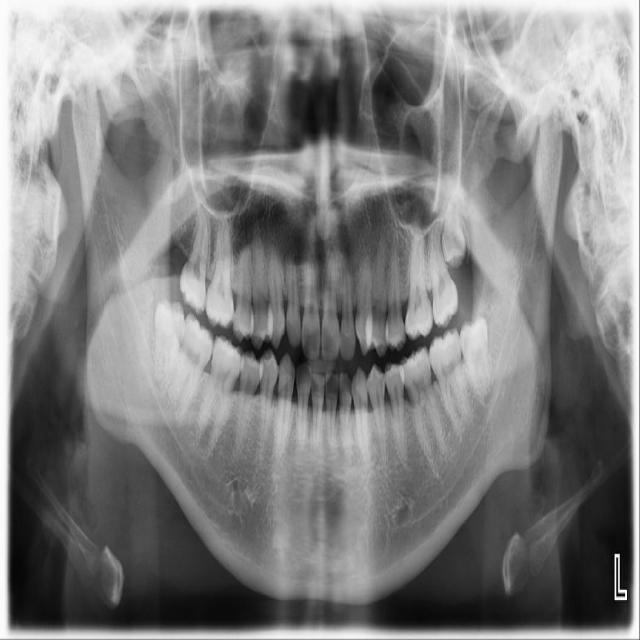impacted tooth: (461, 314, 493, 402), (153, 301, 183, 384), (443, 181, 463, 263)
